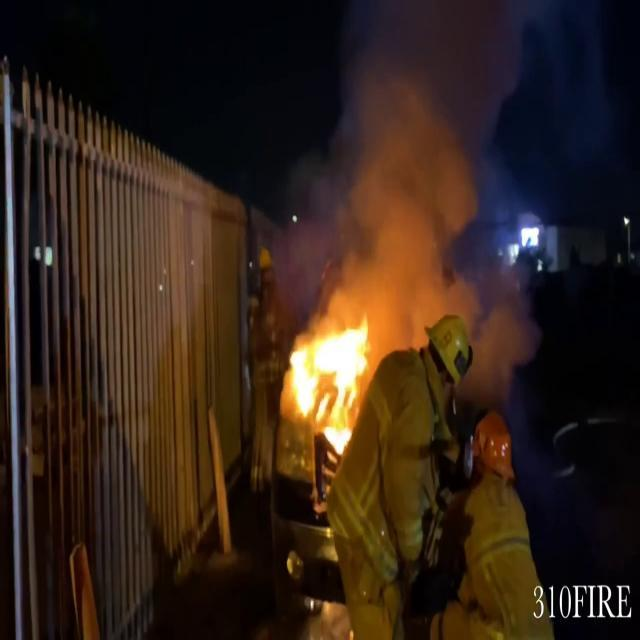Fire: (286, 310, 376, 428)
Smoke: (295, 16, 539, 330)
